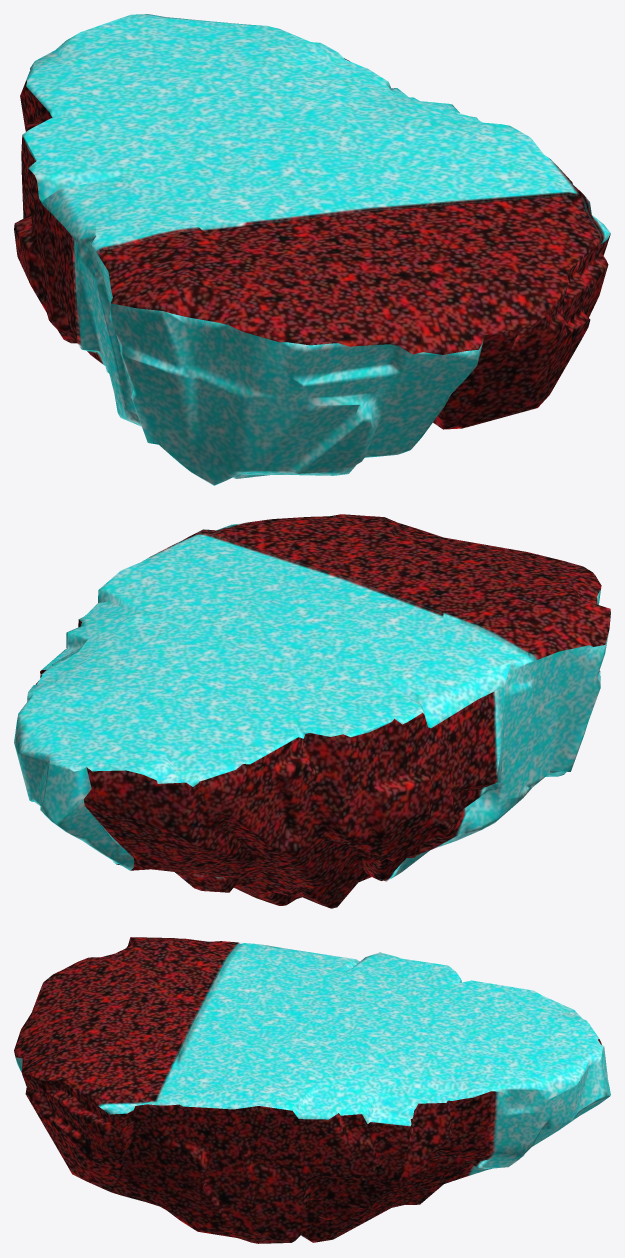
3 views of the same model, one above another, from view 1: azimuth 30°, elevation 25°; view 2: azimuth 150°, elevation 25°; view 3: azimuth 270°, elevation 25° (orthographic). The views are drawn at different scales.
Parts seen in each view (by area): view 1: SM_VFX_Kothaar_Shield_V1_LOD0; view 2: SM_VFX_Kothaar_Shield_V1_LOD0; view 3: SM_VFX_Kothaar_Shield_V1_LOD0.
Boxes of the visible parts, x1=… form: SM_VFX_Kothaar_Shield_V1_LOD0: x1=14, y1=14, x2=610, y2=485; SM_VFX_Kothaar_Shield_V1_LOD0: x1=14, y1=514, x2=610, y2=908; SM_VFX_Kothaar_Shield_V1_LOD0: x1=14, y1=937, x2=610, y2=1243.
Size of the model in its own units: 37.89 by 22 by 54.9.
Materials: 1 (1 with a texture image).
